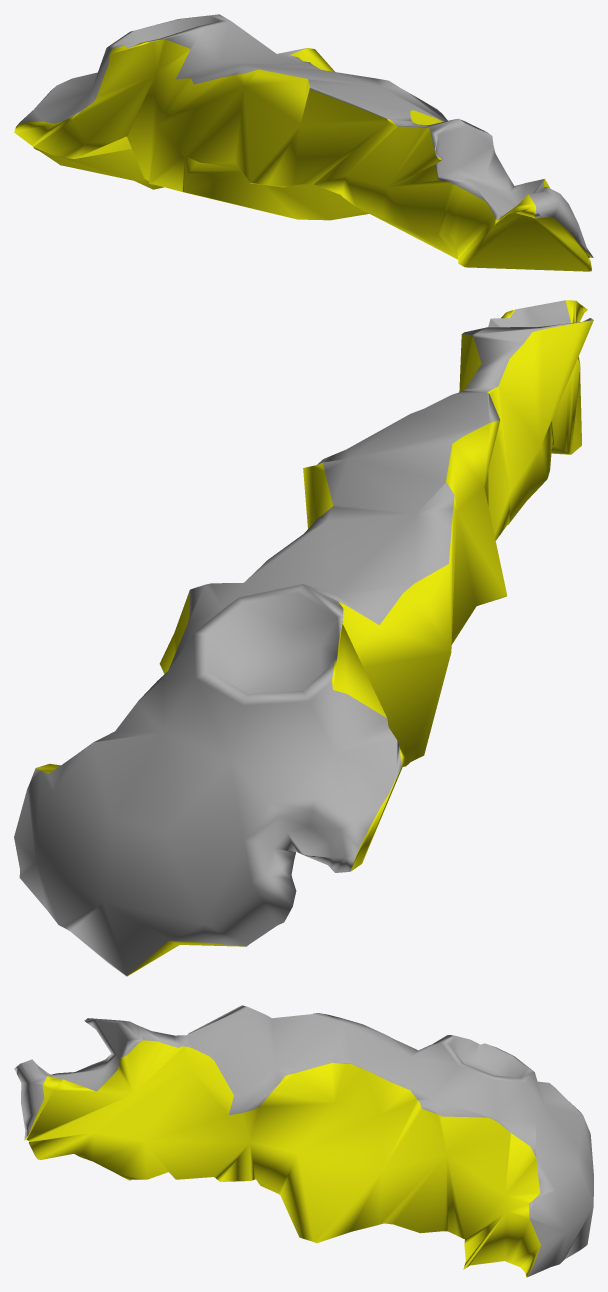
File: Asteroid_01_shard_04.fbx
3 views of the same model, one above another, from view 1: azimuth 30°, elevation 25°; view 2: azimuth 150°, elevation 25°; view 3: azimuth 270°, elevation 25° (orthographic). The views are drawn at different scales.
Visible parts, largest first — view 1: Asteroid_01_shard_04; view 2: Asteroid_01_shard_04; view 3: Asteroid_01_shard_04.
Boxes of the visible parts, x1,y1,x2,y2 form: Asteroid_01_shard_04: (14, 14, 593, 271); Asteroid_01_shard_04: (14, 300, 593, 976); Asteroid_01_shard_04: (14, 1005, 593, 1277).
Bounding box in the file's own units: 360 × 317 × 762.
